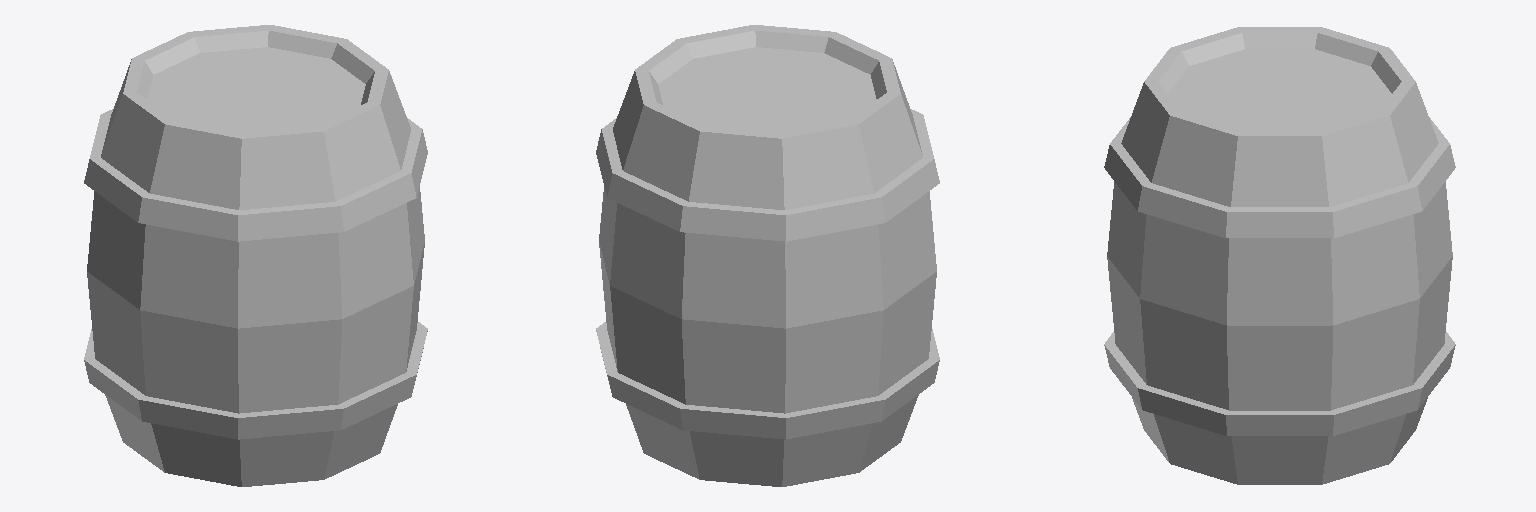
File: barril_2.obj
3 renders of one model, left to right at view 1: azimuth 30°, elevation 25°; view 2: azimuth 150°, elevation 25°; view 3: azimuth 270°, elevation 25°, orthographic.
Parts seen in each view (by area): view 1: Barril.001_Cylinder.044; view 2: Barril.001_Cylinder.044; view 3: Barril.001_Cylinder.044.
Part boxes in pixels (left/top/right/bottom): Barril.001_Cylinder.044: left=84, top=25, right=427, bottom=486; Barril.001_Cylinder.044: left=596, top=25, right=939, bottom=486; Barril.001_Cylinder.044: left=1104, top=27, right=1455, bottom=484.
Bounding box in the file's own units: 0.8704 × 1 × 0.9152.